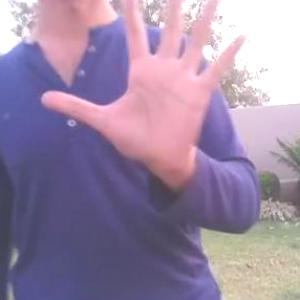follow_hand: (38, 0, 252, 181)
